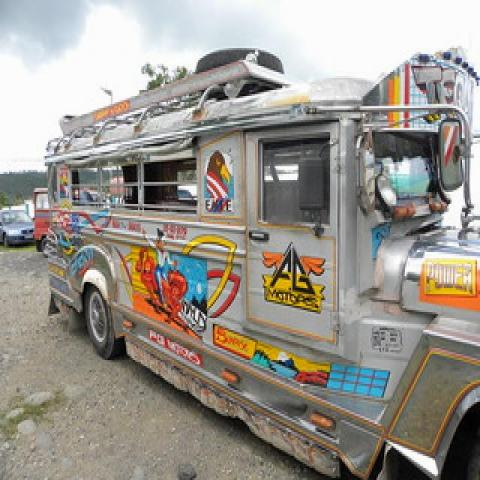car: (1, 205, 37, 251)
jeepney: (37, 59, 480, 480)
